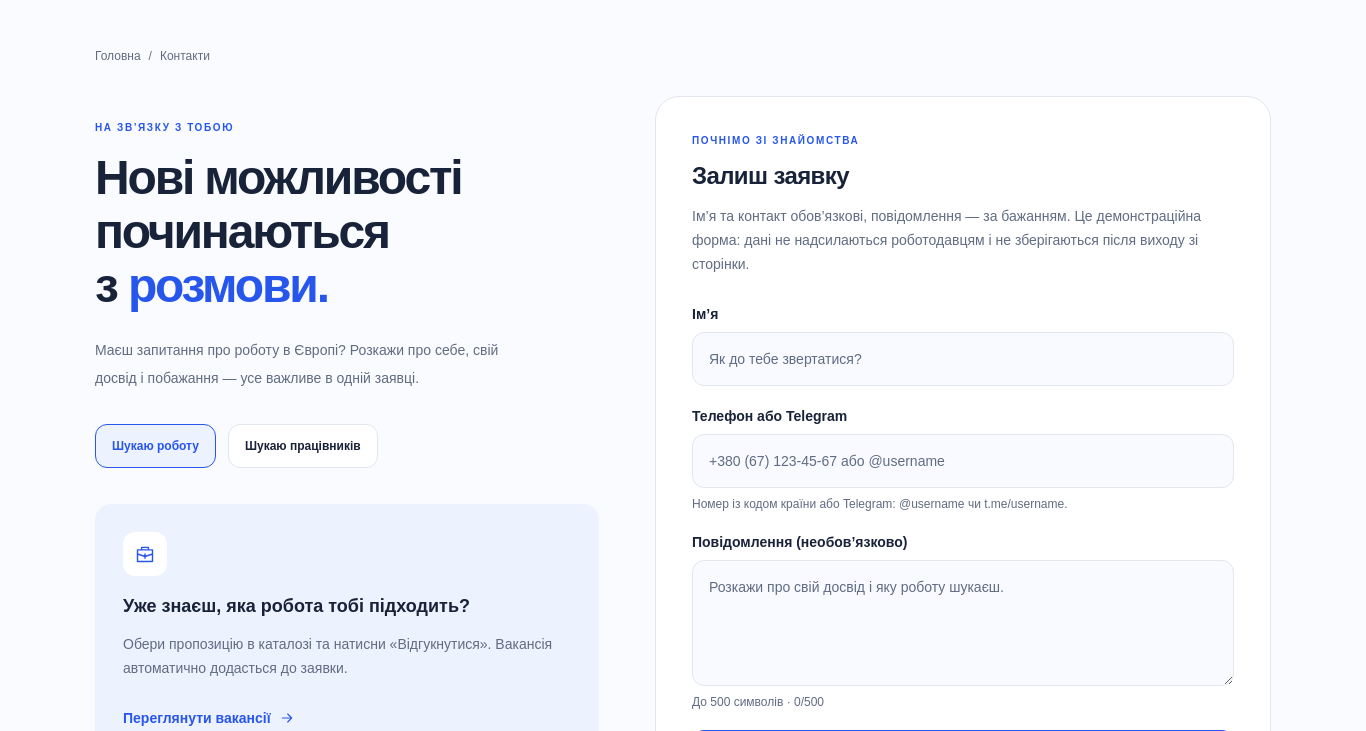
contacts routing › switches between general and employer forms without loading the catalog
Expected: the heading "Залиш заявку" is shown, [692,162,849,189]
Type "Олена" into the field labelled "Ім’я".
click(963, 359); type("Олена")  # box [692,332,1234,386]
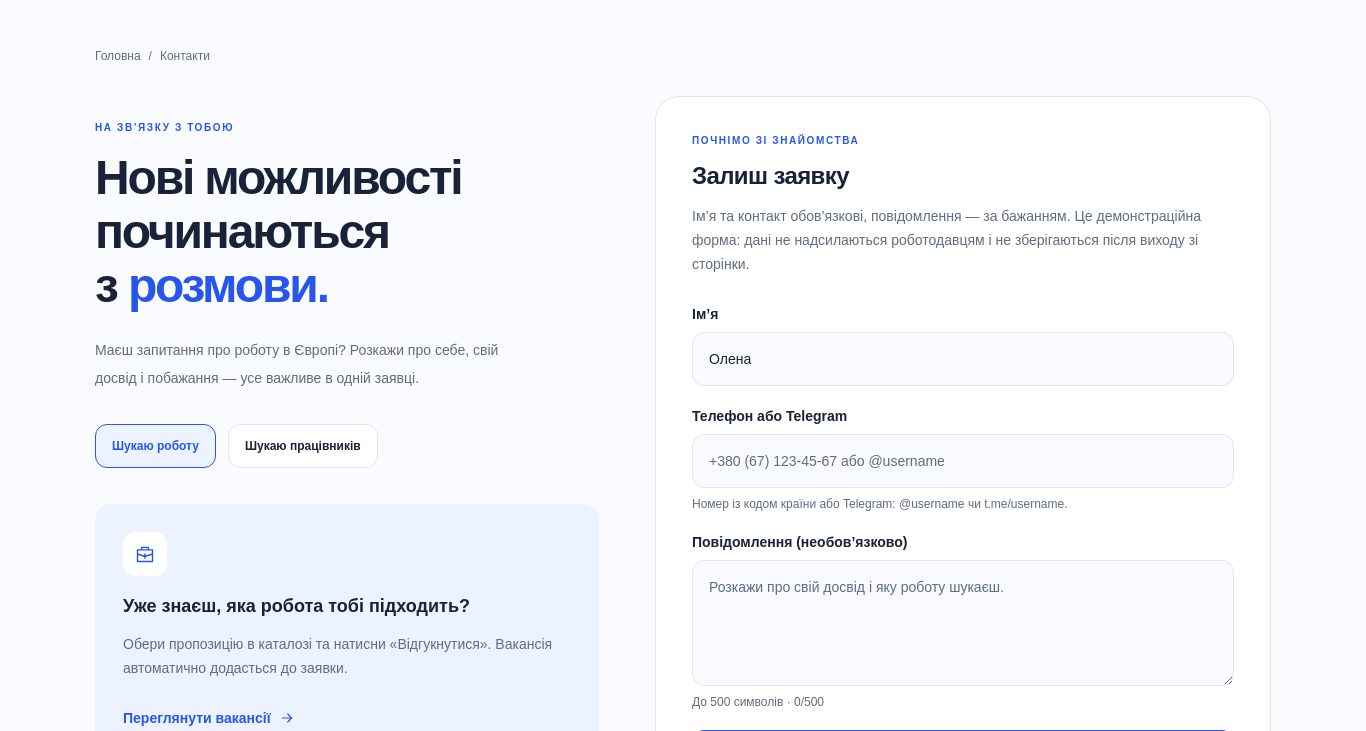
Click the link "Шукаю працівників".
click(303, 446)  # box [228,424,378,468]
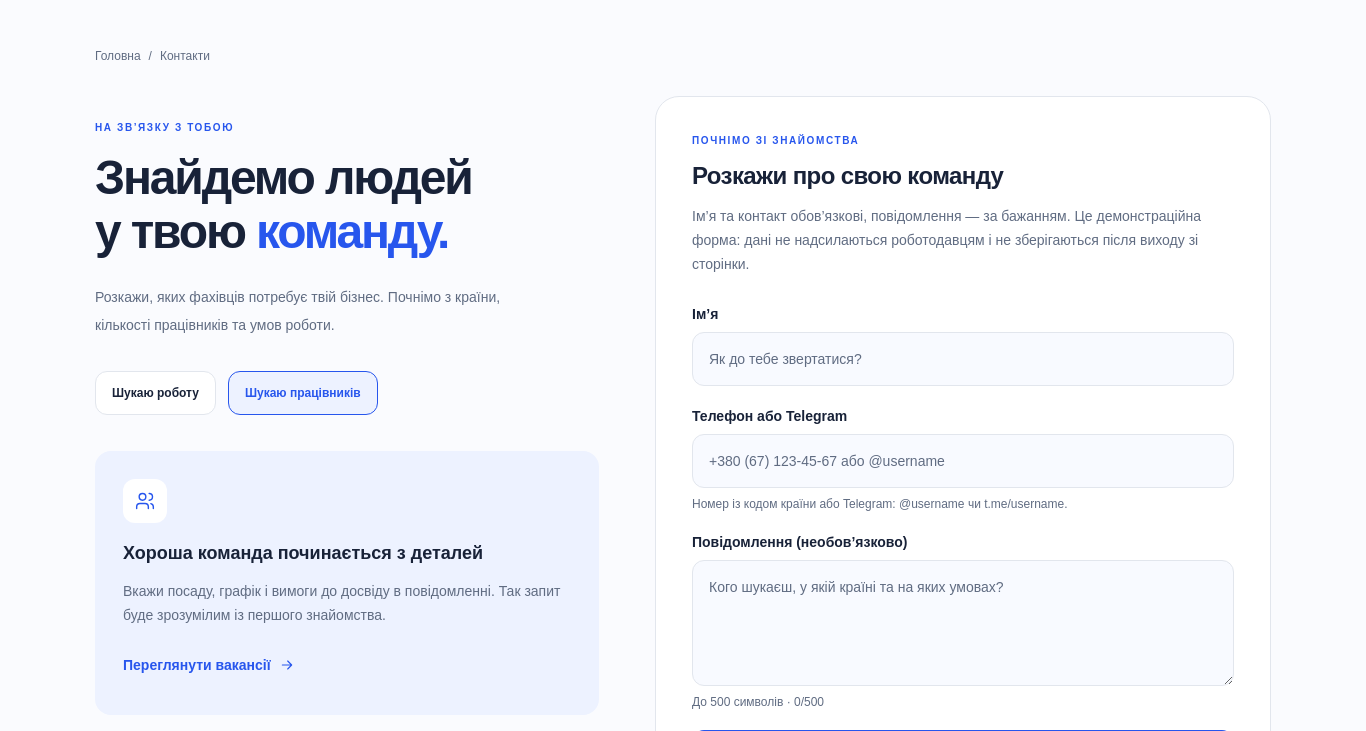
Expected: the heading "Розкажи про свою команду" is shown, [692,162,1003,189]
Expected: the field labelled "Ім’я" is empty, [692,332,1234,386]
